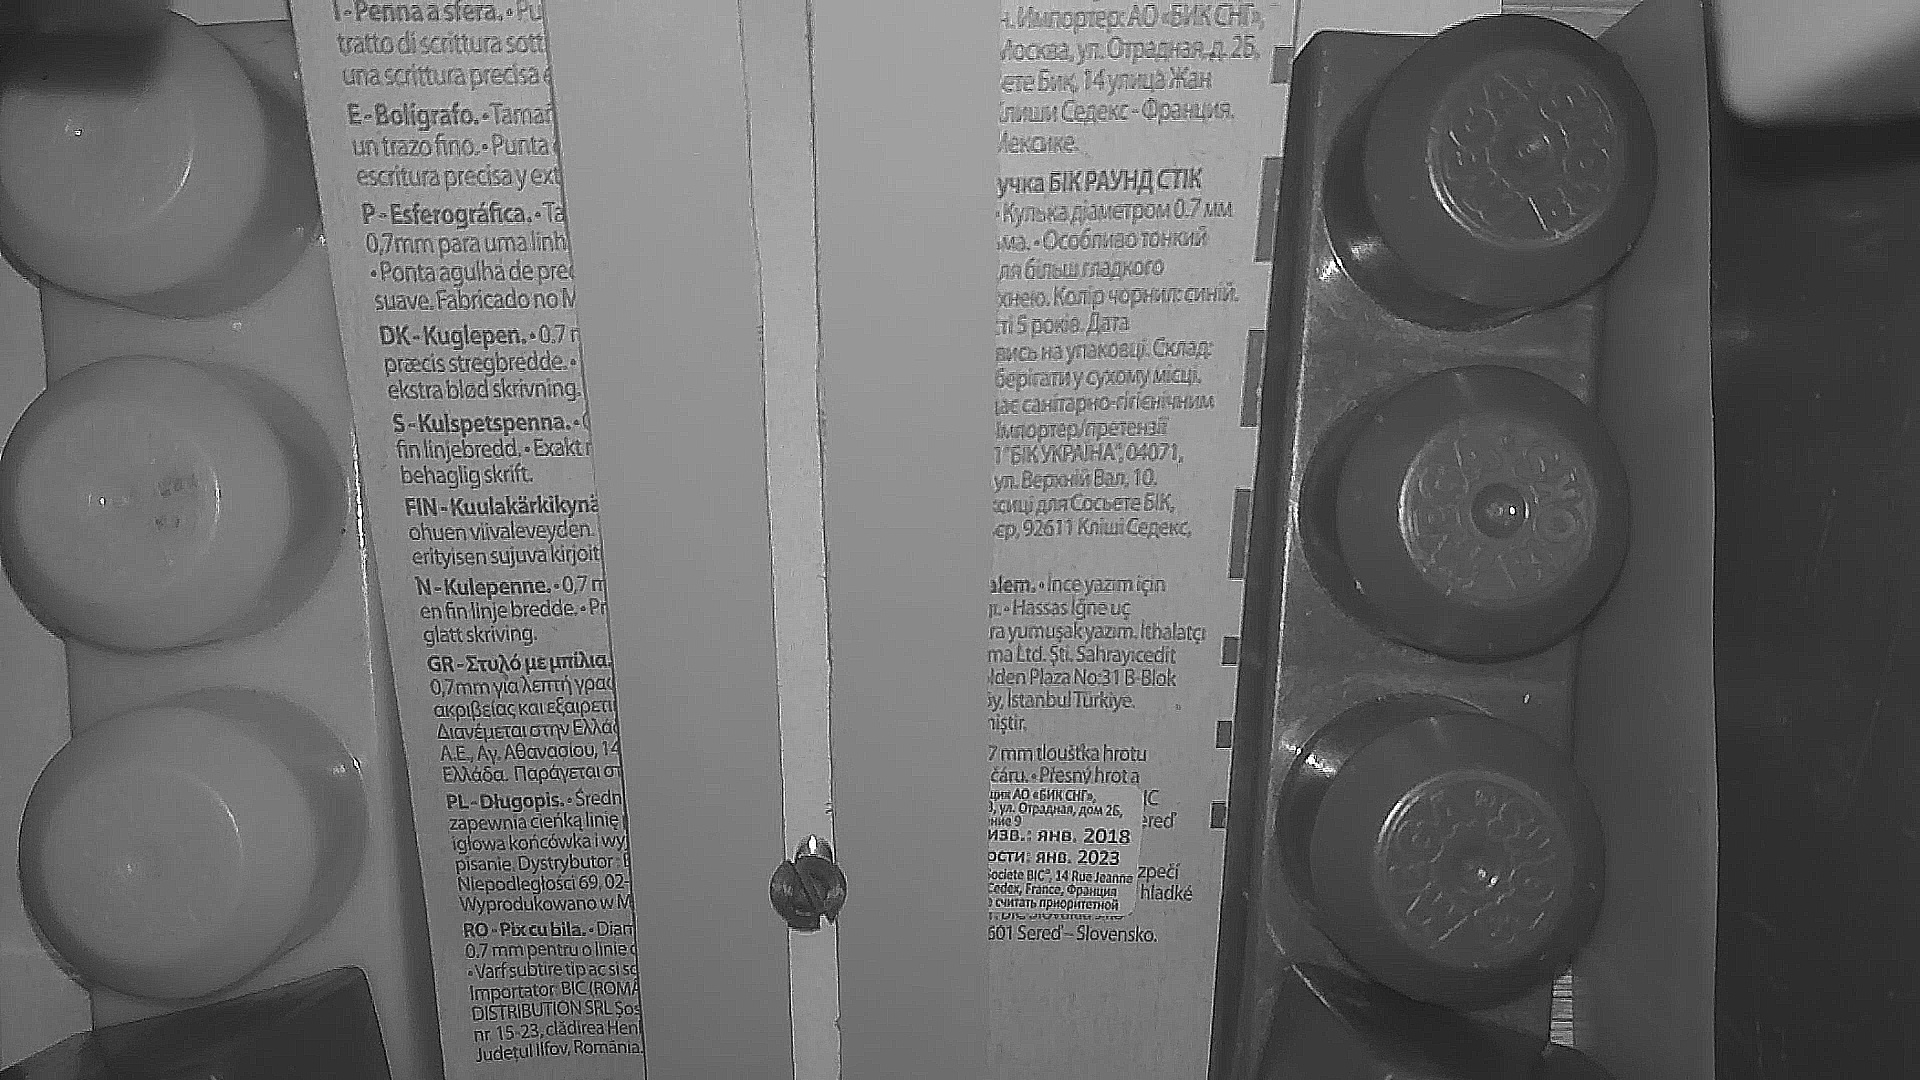i: (771, 855, 847, 931)
